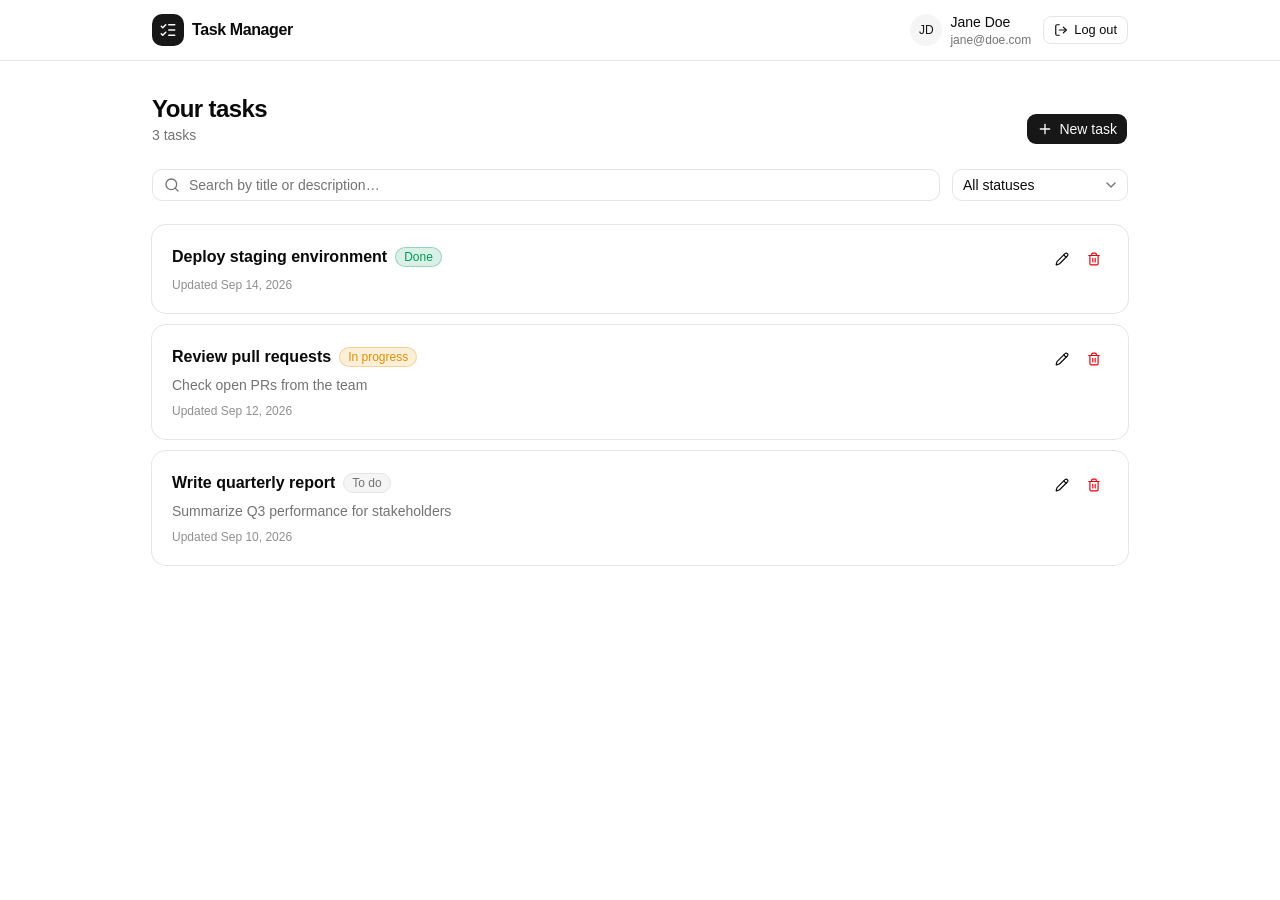
Scenario: DashboardPage › deletes a task after confirmation and removes it from the list
Expected: the heading "Review pull requests" is shown, [172, 345, 331, 369]
Click the button named "Delete Review pull requests": (1094, 359) [1080, 345, 1108, 373]
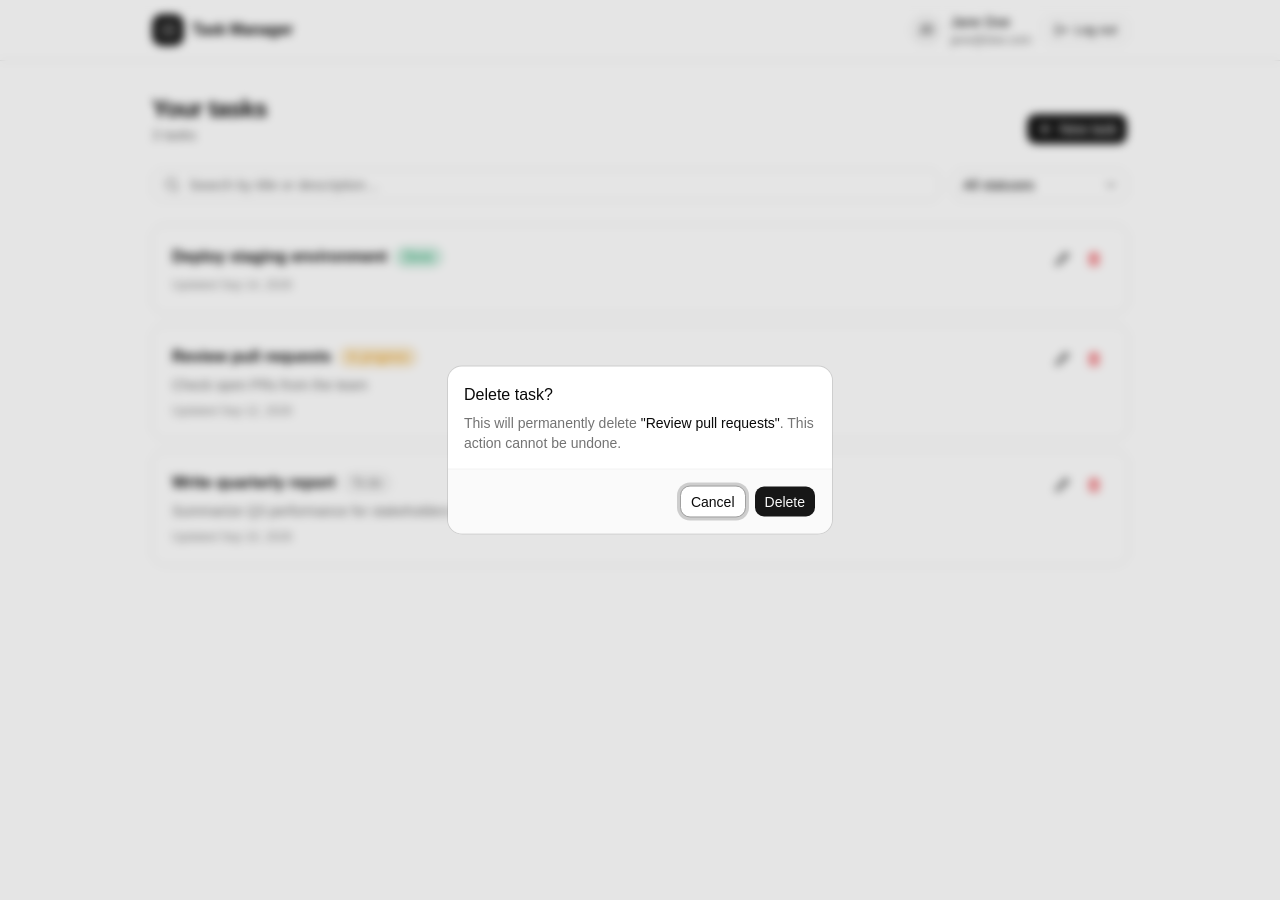
Click the button "Delete": (785, 502) [754, 486, 816, 518]
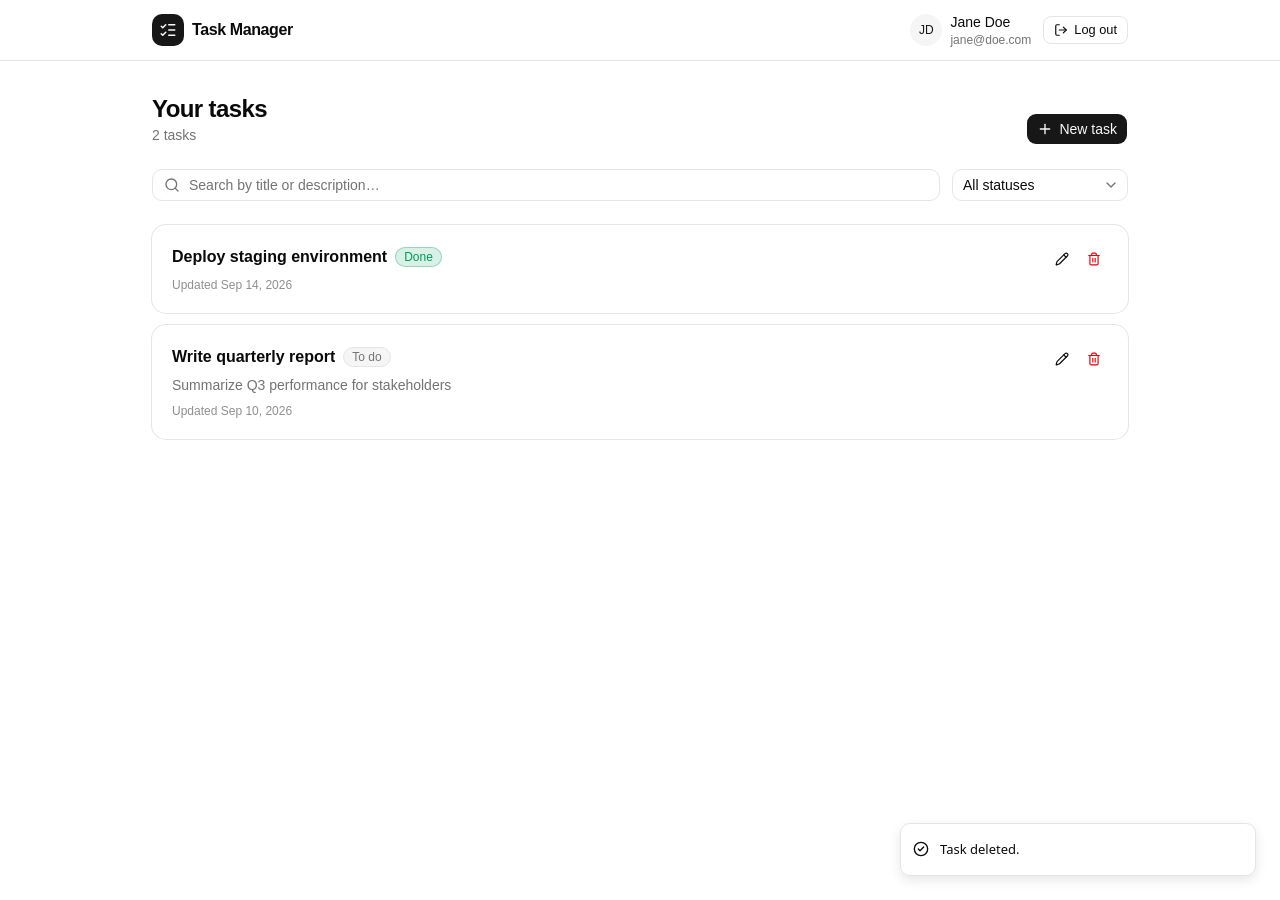
Expected: the heading "Write quarterly report" is shown, [172, 345, 335, 369]
Expected: the heading "Review pull requests" is gone
